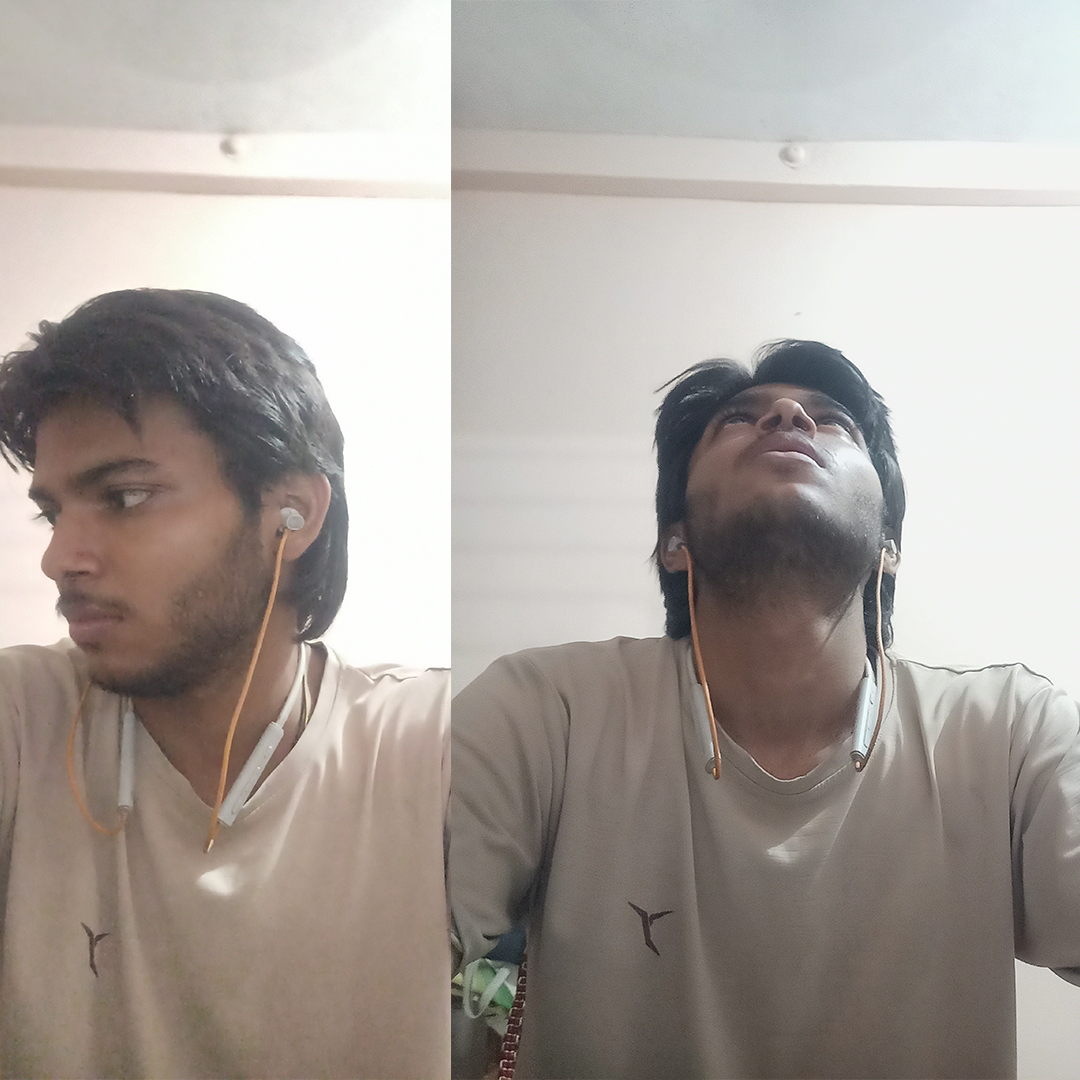distracted: (0, 258, 351, 734), (631, 320, 980, 717)
